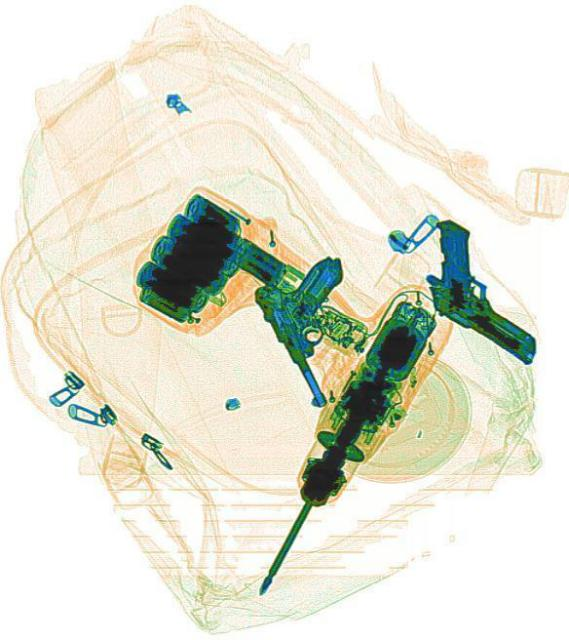Gun: (401, 214, 568, 360), (246, 244, 391, 410)
